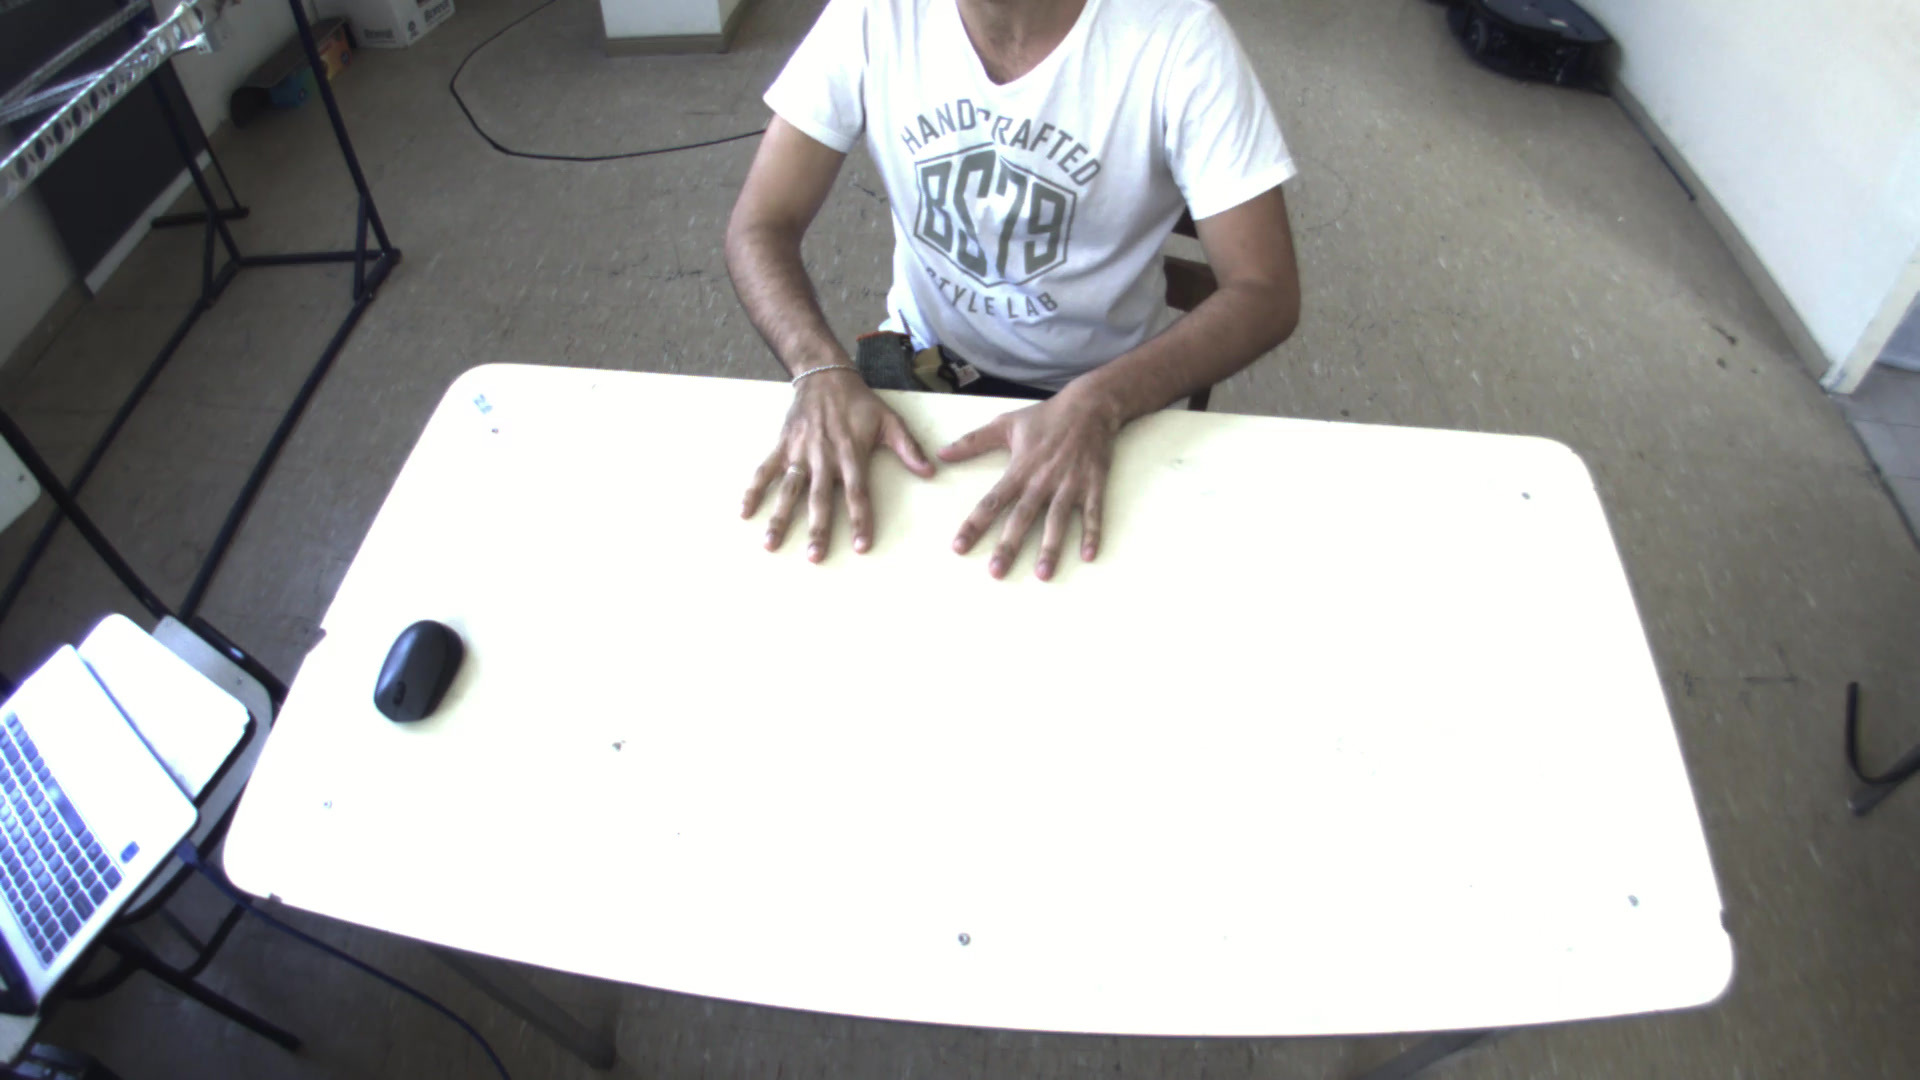hand: (728, 335, 947, 574), (936, 384, 1133, 588)
